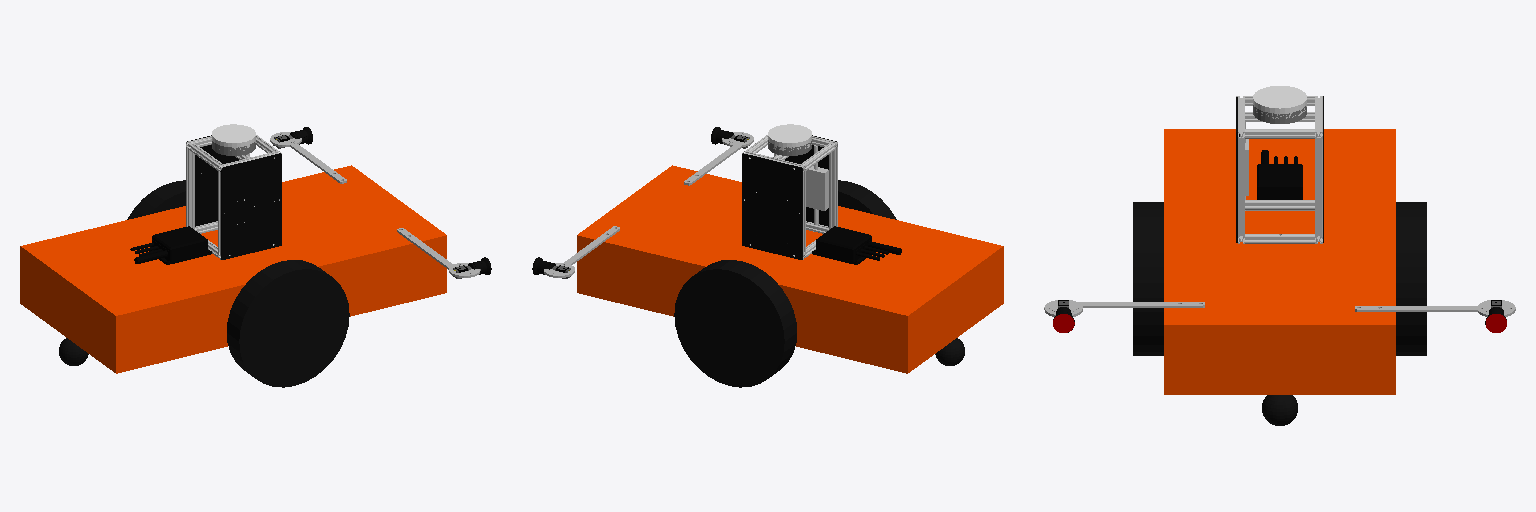
The robot description file, URDF, robot "myRobot":
<?xml version="1.0"?>
<robot name="myRobot">

    <link name="base_link">
        <visual>
            <origin xyz="0 0 0" rpy="0 0 0"/>
            <geometry>
                <box size="1.2 0.6 0.2"/>
            </geometry>
            <material name="yellow">
                <color rgba="1 0.34 0 1"/>
            </material>
        </visual>
    </link>

    <joint name="left_wheel_joint" type="continuous">
        <origin xyz="0 -0.34 -0.05" rpy="0 0 0"/>
        <parent link="base_link"/>
        <child link="left_wheel_link"/>
        <axis xyz="0 1 0"/>
    </joint>

    <link name="left_wheel_link">
        <visual>
            <origin xyz="0 0 0" rpy="1.5707 0 0"/>
            <geometry>
                <cylinder length="0.08" radius="0.2"/>
            </geometry>
            <material name="black">
                <color rgba="0.1 0.1 0.1 0.9"/>
            </material>
        </visual>
    </link>

    <joint name="right_wheel_joint" type="continuous">
        <origin xyz="0 0.34 -0.05" rpy="0 0 0"/>
        <parent link="base_link"/>
        <child link="right_wheel_link"/>
        <axis xyz="0 1 0"/>
    </joint>

    <link name="right_wheel_link">
        <visual>
            <origin xyz="0 0 0" rpy="1.5707 0 0"/>
            <geometry>
                <cylinder length="0.08" radius="0.2"/>
            </geometry>
            <material name="black">
                <color rgba="0.1 0.1 0.1 0.9"/>
            </material>
        </visual>
    </link>

    <joint name="front_caster_joint" type="continuous">
        <origin xyz="0.58 0 -0.1475" rpy="0 0 0"/>
        <parent link="base_link"/>
        <child link="front_caster_link"/>
        <axis xyz="0 0 1"/>
    </joint>

    <link name="front_caster_link">
        <visual>
            <origin xyz="0 0 0" rpy="0 0 0"/>
            <geometry>
                <sphere radius="0.0475"/>
            </geometry>
            <material name="black">
                <color rgba="0.1 0.1 0.1 0.9"/>
            </material>
        </visual>
    </link>

    <joint name="back_caster_joint" type="continuous">
        <origin xyz="-0.58 0 -0.1475" rpy="0 0 0"/>
        <parent link="base_link"/>
        <child link="back_caster_link"/>
        <axis xyz="0 0 1"/>
    </joint>

    <link name="back_caster_link">
        <visual>
            <origin xyz="0 0 0" rpy="0 0 0"/>
            <geometry>
                <sphere radius="0.0475"/>
            </geometry>
            <material name="black">
                <color rgba="0.1 0.1 0.1 0.9"/>
            </material>
        </visual>
    </link>

    <joint name="RGBD_joint" type="fixed">
        <origin xyz="0.58 0 0.13" rpy="0 0 1.5707"/>
        <parent link="base_link"/>
        <child link="RGBD_camera_link"/>
    </joint>

    <link name="RGBD_camera_link">
        <visual>
            <origin xyz="0 0 0" rpy="0 0 0"/>
            <geometry>
                <mesh filename="package://hw5/meshes/kinect.dae"/>
            </geometry>
        </visual>
    </link>

    <joint name="left_camera_bracket_joint" type="prismatic">
        <origin xyz="0.5 -0.4 0.1" rpy="0 0 3.1415"/>
        <parent link="base_link"/>
        <child link="left_camera_bracket_link"/>
        <axis xyz="0 1 0"/>
        <limit effort="30" velocity="1.0" lower="-0.3" upper="0"/>
    </joint>

    <link name="left_camera_bracket_link">
        <visual>
            <origin xyz="0 0 0" rpy="0 0 0"/>
            <geometry>
                <mesh filename="package://hw5/meshes/dae/left_camera_slide.dae"/>
            </geometry>
            <material name="">
                <color rgba="0.75294 0.75294 0.75294 1"/>
            </material>
        </visual>
    </link>

    <joint name="left_camera_joint" type="fixed">
        <origin xyz="0 0.16 0" rpy="0 0 0"/>
        <parent link="left_camera_bracket_link"/>
        <child link="left_camera_link"/>
    </joint>

    <link name="left_camera_link">
        <visual>
            <origin xyz="0 0 0" rpy="0 0 3.1415"/>
            <geometry>
                <mesh filename="package://hw5/meshes/dae/camera.dae"/>
            </geometry>
        </visual>
    </link>

    <joint name="right_camera_bracket_joint" type="prismatic">
        <origin xyz="0.5 0.4 0.1" rpy="0 0 0"/>
        <parent link="base_link"/>
        <child link="right_camera_bracket_link"/>
        <axis xyz="0 1 0"/>
        <limit effort="30" velocity="1.0" lower="-0.3" upper="0"/>
    </joint>

    <link name="right_camera_bracket_link">
        <visual>
            <origin xyz="0 0 0" rpy="0 0 0"/>
            <geometry>
                <mesh filename="package://hw5/meshes/dae/right_camera_slide.dae"/>
            </geometry>
            <material name="">
                <color rgba="0.75294 0.75294 0.75294 1"/>
            </material>
        </visual>
    </link>

    <joint name="right_camera_joint" type="fixed">
        <origin xyz="0 0.16 0" rpy="0 0 0"/>
        <parent link="right_camera_bracket_link"/>
        <child link="right_camera_link"/>
    </joint>

    <link name="right_camera_link">
        <visual>
            <origin xyz="0 0 0" rpy="0 0 0"/>
            <geometry>
                <mesh filename="package://hw5/meshes/dae/camera.dae"/>
            </geometry>
        </visual>
    </link>

    <joint name="lidar_bracket_joint" type="fixed">
        <origin xyz="0 0 0.1" rpy="0 0 0"/>
        <parent link="base_link"/>
        <child link="lidar_bracket_link"/>
    </joint>

    <link name="lidar_bracket_link">
        <visual>
            <origin xyz="0 0 0" rpy="0 0 0"/>
            <geometry>
                <mesh filename="package://hw5/meshes/dae/lidar_bracket_link.dae"/>
            </geometry>
        </visual>
    </link>

    <joint name="velodyne_bracket_joint" type="fixed">
        <origin xyz="0 0 0.34" rpy="0 0 0"/>
        <parent link="lidar_bracket_link"/>
        <child link="velodyne_bracket_link"/>
    </joint>

    <link name="velodyne_bracket_link">
        <visual>
            <origin xyz="0 0 0" rpy="0 0 0"/>
            <geometry>
                <cylinder length="0.03" radius="0.07"/>
            </geometry>
            <material name="gray">
                <color rgba="0.5 0.5 0.5 1"/>
            </material>
        </visual>
    </link>

    <joint name="velodyne_joint" type="fixed">
        <origin xyz="0 0 0.015" rpy="0 0 0"/>
        <parent link="velodyne_bracket_link"/>
        <child link="velodyne_link"/>
    </joint>

    <link name="velodyne_link">
        <visual>
            <origin xyz="0 0 0" rpy="0 0 0"/>
            <geometry>
                <cylinder length="0.03" radius="0.07"/>
            </geometry>
            <material name="black">
                <color rgba="0.89 0.89 0.89 1"/>
            </material>
        </visual>
    </link>

    <joint name="orientation_joint" type="fixed">
        <origin xyz="-0.2 0 0.1" rpy="0 0 0"/>
        <parent link="base_link"/>
        <child link="gps_link"/>
    </joint>

    <link name="gps_link">
        <visual>
            <origin xyz="0 0 0" rpy="0 0 0"/>
            <geometry>
                <mesh filename="package://hw5/meshes/dae/gps_link.dae"/>
            </geometry>
        </visual>
    </link>



</robot>

--- Facts derived from the render (not from the file) ---
Views: 3 orthographic renders of the robot side by side, from view 1: azimuth 30°, elevation 25°; view 2: azimuth 150°, elevation 25°; view 3: azimuth 270°, elevation 25°.
Robot: myRobot — 14 links, 13 joints (4 continuous, 2 prismatic, 7 fixed); root link base_link; default pose: every joint at zero.
Visible links, largest first — view 1: base_link, left_wheel_link, lidar_bracket_link, gps_link, right_wheel_link, velodyne_link, left_camera_bracket_link, right_camera_bracket_link, back_caster_link; view 2: base_link, right_wheel_link, lidar_bracket_link, gps_link, left_wheel_link, velodyne_link, left_camera_bracket_link, right_camera_bracket_link, back_caster_link; view 3: base_link, lidar_bracket_link, left_wheel_link, right_wheel_link, gps_link, velodyne_link, left_camera_bracket_link, right_camera_bracket_link, front_caster_link, left_camera_link.
Link boxes in pixels (<box>): base_link: <box>20,165,446,373</box>; left_wheel_link: <box>227,260,349,387</box>; lidar_bracket_link: <box>186,135,281,259</box>; gps_link: <box>130,226,211,264</box>; right_wheel_link: <box>127,180,185,219</box>; velodyne_link: <box>212,124,255,150</box>; left_camera_bracket_link: <box>397,228,480,277</box>; right_camera_bracket_link: <box>270,132,346,183</box>; back_caster_link: <box>59,338,88,365</box>; base_link: <box>577,165,1003,373</box>; right_wheel_link: <box>674,260,796,387</box>; lidar_bracket_link: <box>742,135,837,259</box>; gps_link: <box>812,226,901,264</box>; left_wheel_link: <box>838,180,896,219</box>; velodyne_link: <box>768,124,811,151</box>; left_camera_bracket_link: <box>684,132,753,185</box>; right_camera_bracket_link: <box>544,226,619,277</box>; back_caster_link: <box>935,338,964,365</box>; base_link: <box>1164,129,1395,394</box>; lidar_bracket_link: <box>1236,96,1323,243</box>; left_wheel_link: <box>1133,202,1163,355</box>; right_wheel_link: <box>1396,202,1426,355</box>; gps_link: <box>1257,150,1302,199</box>; velodyne_link: <box>1253,86,1306,118</box>; left_camera_bracket_link: <box>1044,300,1204,316</box>; right_camera_bracket_link: <box>1355,300,1515,316</box>; front_caster_link: <box>1262,395,1297,425</box>; left_camera_link: <box>1053,300,1074,332</box>.
Size in the robot's own frame: 1.25 by 1.22 by 0.72 metres.
6 mesh visuals loaded from 6 distinct referenced files (5 Collada DAE); not drawn: 1 (reference not matched to a file when rendering).
